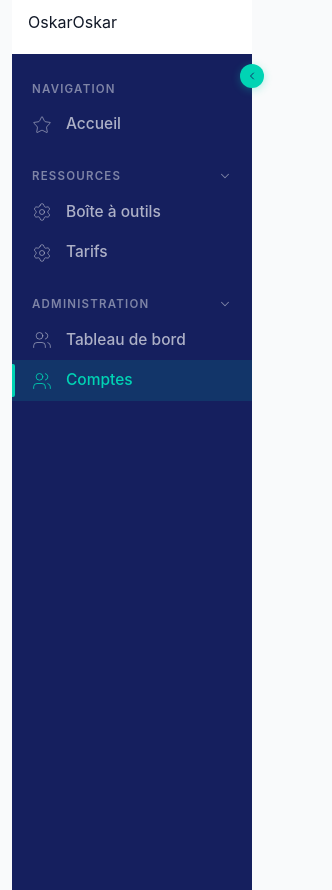
Scenario: Sections rabattables du menu › garde la page en cours dans une section rabattue
Step 1. Click the button "Administration" → {"x": 132, "y": 300}, box [12, 281, 252, 320]
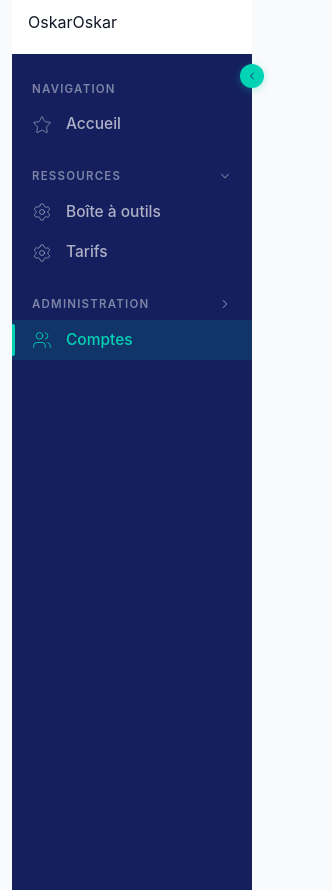
Check: the link "Comptes" is shown, box [12, 320, 252, 360]
Check: the link "Tableau de bord" is gone
